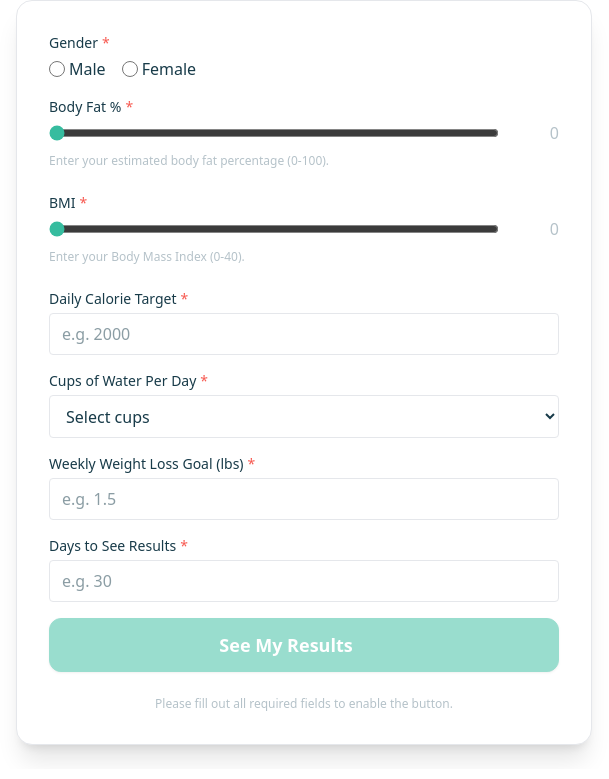
Form Component › Form Validation › should enable submit button when all fields are valid
Note: Fill in all fields
Click the radio button labelled "Male".
click(57, 69)  # box [49,61,65,77]
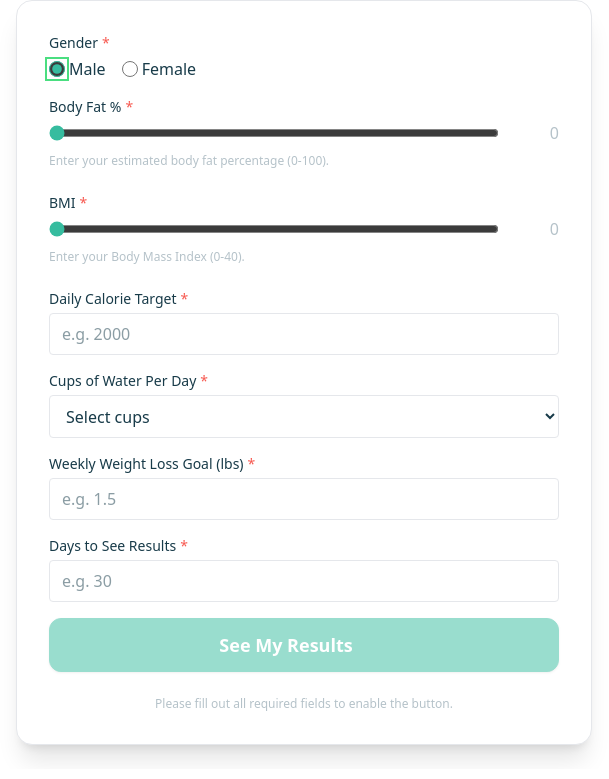
Set the slider labelled "Body Fat %*" to "25" at (166, 133), box [49,125,499,141]
Set the slider labelled "BMI*" to "28" at (361, 229), box [49,221,499,237]
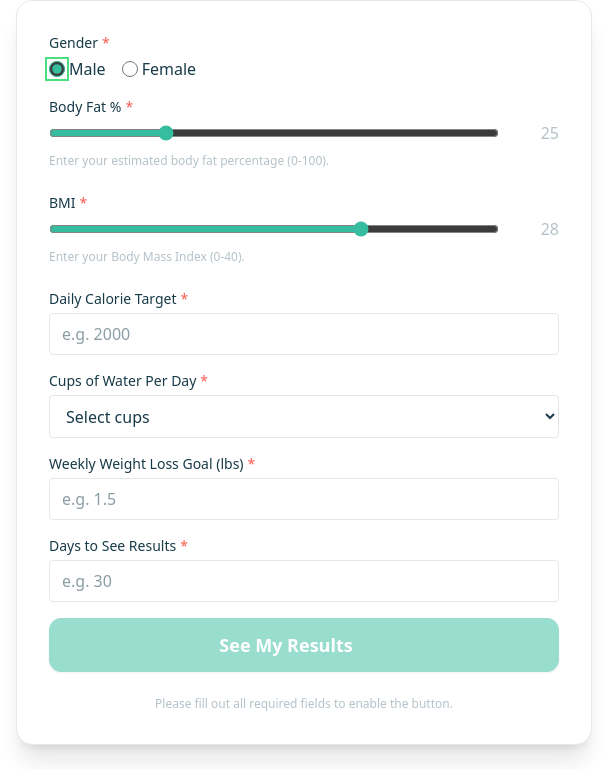
Type "1500" into the number field labelled "Daily Calorie Target*".
click(304, 334); type("1500")  # box [49,313,559,355]
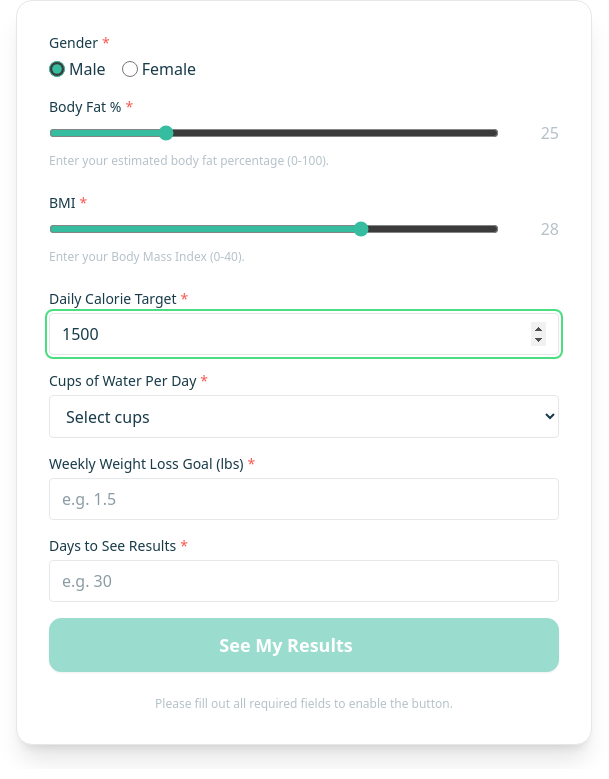
Select "6" in the dropdown labelled "Cups of Water Per Day*" at (304, 416), box [49,395,559,438]
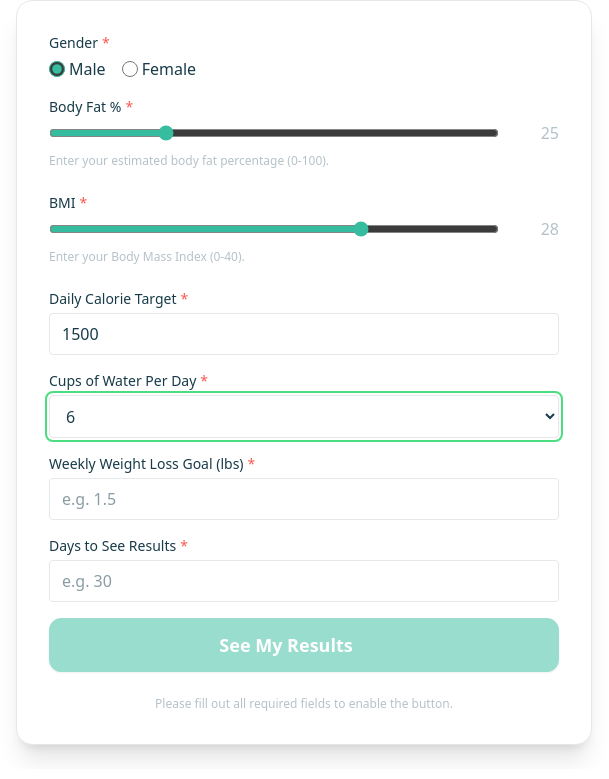
Type "20" into the number field labelled "Weekly Weight Loss Goal (lbs)*".
click(304, 499); type("20")  # box [49,478,559,520]
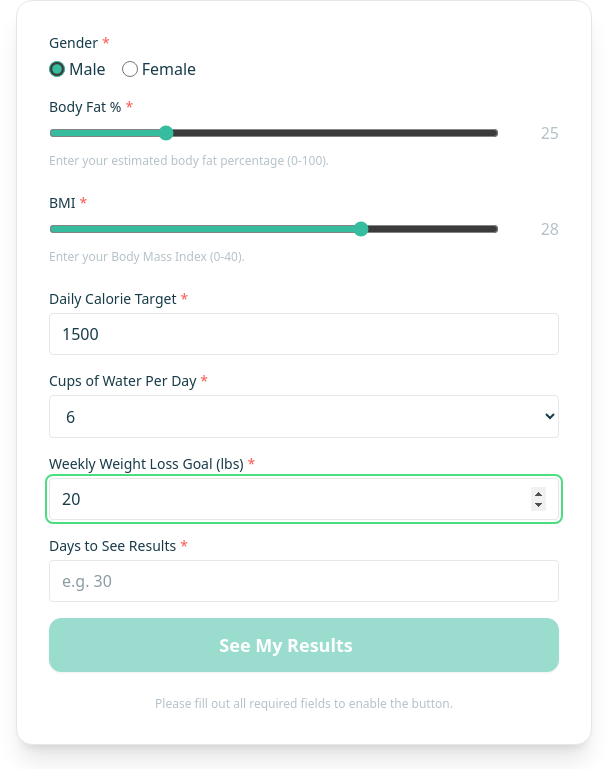
Type "90" into the number field labelled "Days to See Results*".
click(304, 581); type("90")  # box [49,560,559,602]
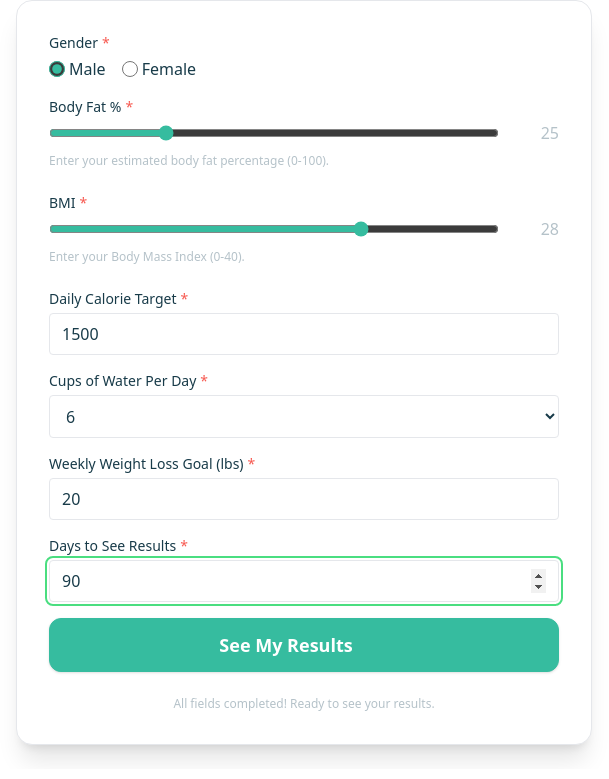
Check: the button "See My Results" is enabled, box [49,618,559,672]
